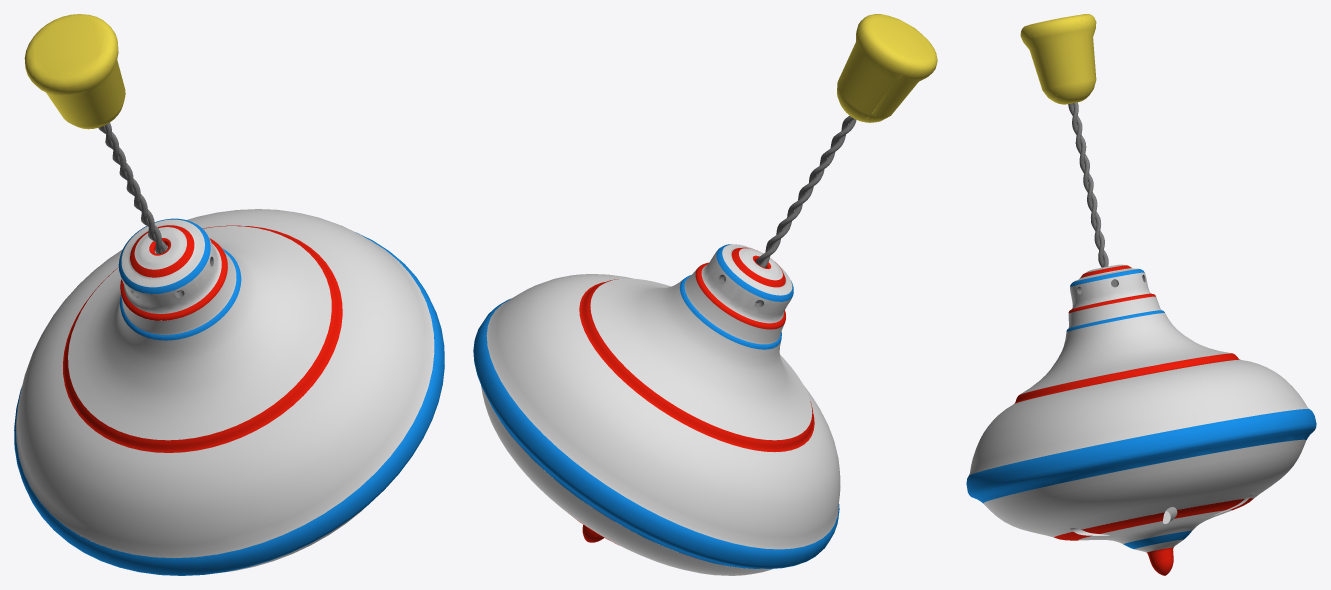
Rendered from Toy_amb.fbx.
3 views of the same model, side by side, from view 1: azimuth 30°, elevation 25°; view 2: azimuth 150°, elevation 25°; view 3: azimuth 270°, elevation 25° (orthographic). The views are drawn at different scales.
Visible parts, largest first — view 1: Toy1; view 2: Toy1; view 3: Toy1.
Boxes of the visible parts, left/top/right/bottom form: Toy1: left=14, top=14, right=444, bottom=575; Toy1: left=473, top=14, right=937, bottom=575; Toy1: left=966, top=14, right=1316, bottom=575.
Size of the model in its own units: 65.74 by 86.25 by 59.03.
